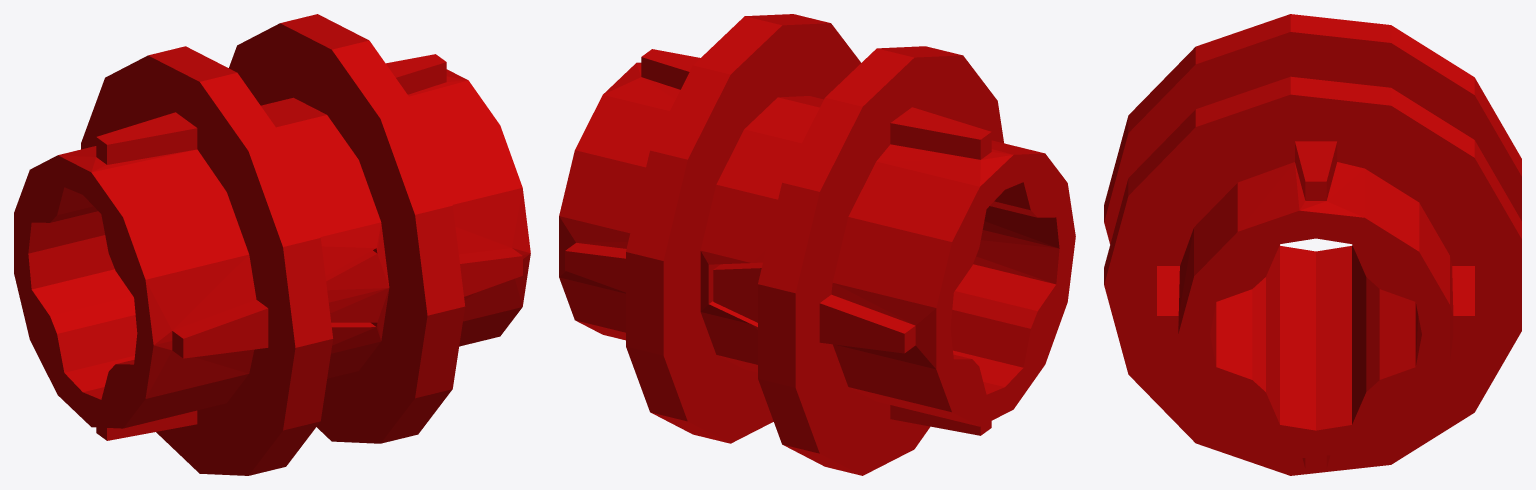
Rendered from Red_4278957_JC.fbx.
3 renders of one model, left to right at view 1: azimuth 30°, elevation 25°; view 2: azimuth 150°, elevation 25°; view 3: azimuth 270°, elevation 25°, orthographic. The views are drawn at different scales.
Parts seen in each view (by area): view 1: Red_4278957_JC; view 2: Red_4278957_JC; view 3: Red_4278957_JC.
Boxes of the visible parts, x1,y1,x2,y2 form: Red_4278957_JC: (14, 14, 530, 475); Red_4278957_JC: (559, 14, 1075, 475); Red_4278957_JC: (1104, 14, 1521, 475).
Size of the model in its own units: 1.6 by 1.59 by 1.58.
